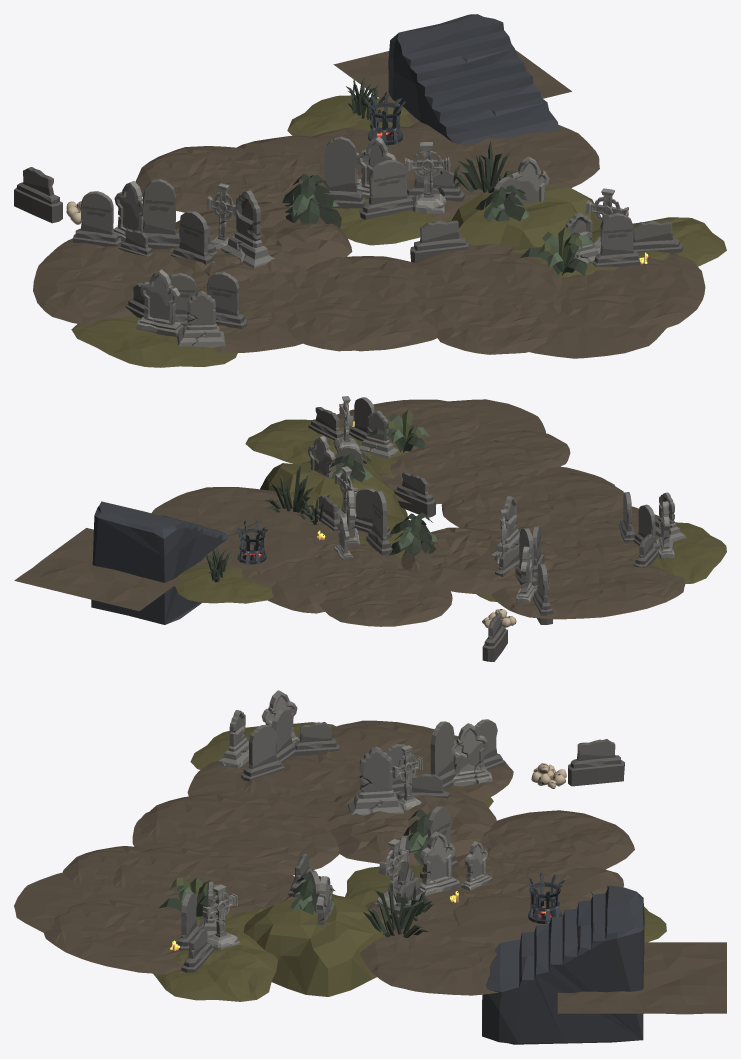
Rendered from crypt_graves_b.gltf.
3 views of the same model, one above another, from view 1: azimuth 30°, elevation 25°; view 2: azimuth 150°, elevation 25°; view 3: azimuth 270°, elevation 25° (orthographic). The views are drawn at different scales.
Visible parts, largest first — view 1: crypt_graves_b; view 2: crypt_graves_b; view 3: crypt_graves_b.
Boxes of the visible parts, x1,y1,x2,y2 form: crypt_graves_b: (14, 14, 726, 367); crypt_graves_b: (14, 396, 726, 661); crypt_graves_b: (14, 690, 726, 1044).
Bounding box in the file's own units: 15.89 × 3.07 × 16.3.
Materials: 1 (1 with a texture image).
